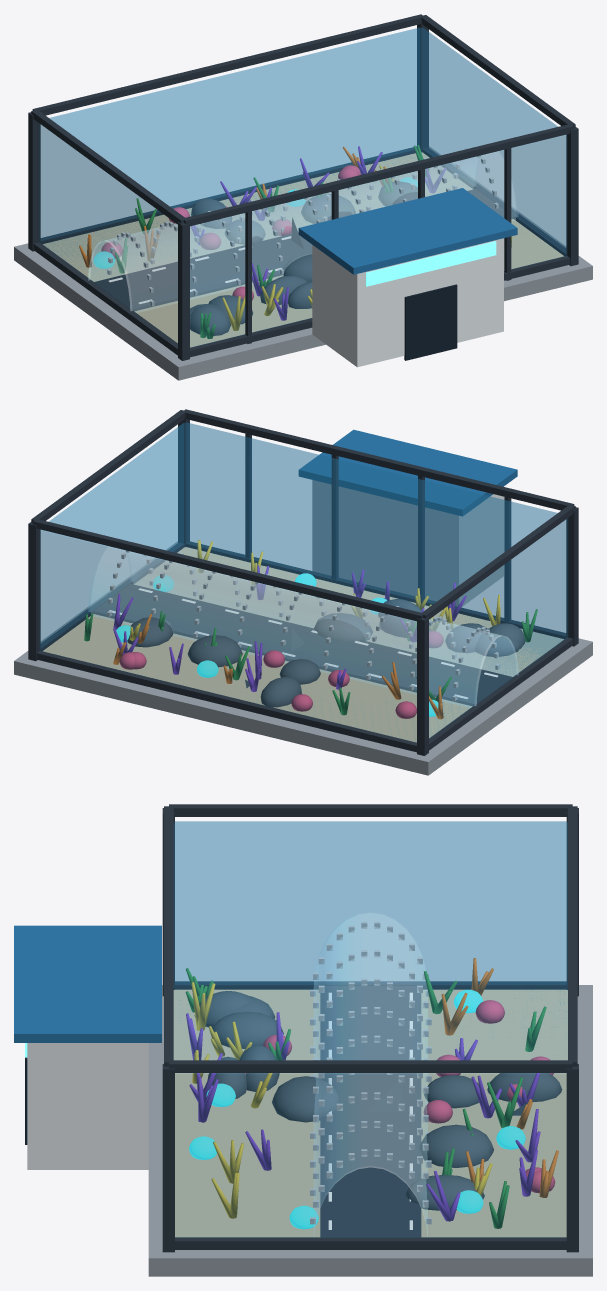
The model's file is aquarium.glb.
The picture shows the model from 3 angles, top to bottom: view 1: azimuth 30°, elevation 25°; view 2: azimuth 150°, elevation 25°; view 3: azimuth 270°, elevation 25°; orthographic projection. The views are drawn at different scales.
Parts seen in each view (by area): view 1: aquariumTank, aquariumWater; view 2: aquariumTank, aquariumWater; view 3: aquariumTank, aquariumWater.
Part boxes in pixels (left/top/right/bottom): aquariumTank: left=14, top=14, right=592, bottom=380; aquariumWater: left=39, top=27, right=566, bottom=347; aquariumTank: left=14, top=409, right=592, bottom=775; aquariumWater: left=40, top=422, right=567, bottom=742; aquariumTank: left=14, top=804, right=592, bottom=1276; aquariumWater: left=174, top=821, right=567, bottom=1237.
Size of the model in its own units: 9.6 by 3.82 by 8.6.
